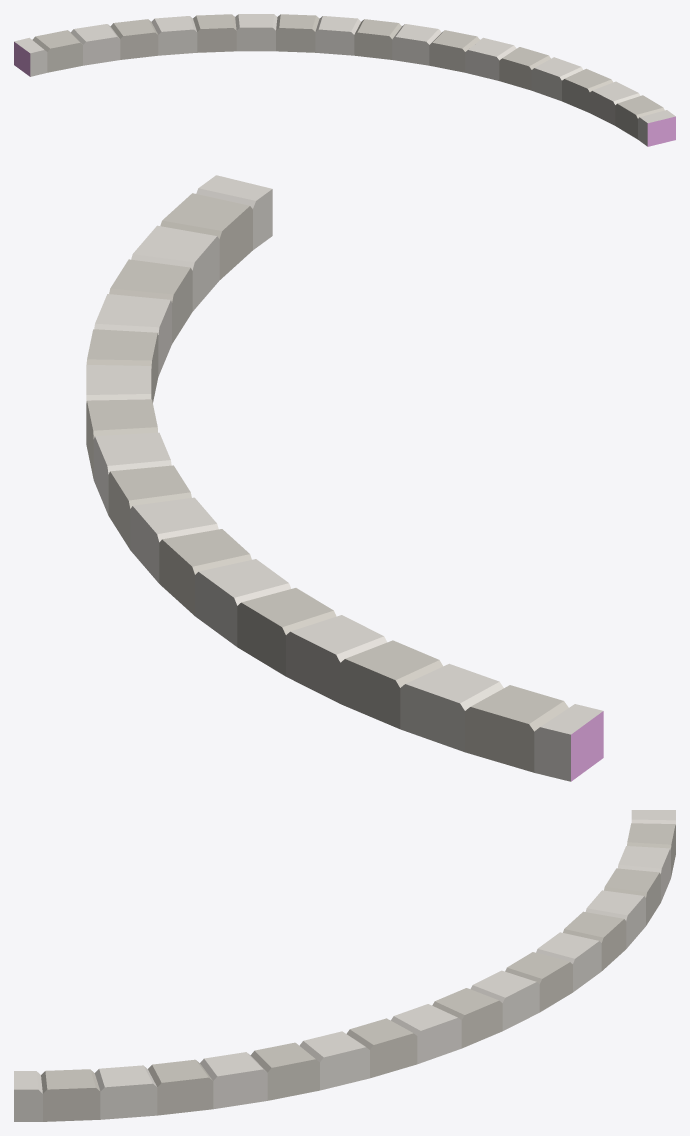
File: Path_Edging_Stones_Curve_5x5.glb
The picture shows the model from 3 angles, top to bottom: view 1: azimuth 30°, elevation 25°; view 2: azimuth 150°, elevation 25°; view 3: azimuth 270°, elevation 25°; orthographic projection. The views are drawn at different scales.
Visible parts, largest first — view 1: Path_Edging_Stones_Curve_5x5; view 2: Path_Edging_Stones_Curve_5x5; view 3: Path_Edging_Stones_Curve_5x5.
Boxes of the visible parts, x1,y1,x2,y2 form: Path_Edging_Stones_Curve_5x5: (14,14,675,146); Path_Edging_Stones_Curve_5x5: (86,175,603,781); Path_Edging_Stones_Curve_5x5: (14,810,675,1121).
Bounding box in the file's own units: 466 × 25 × 466.
